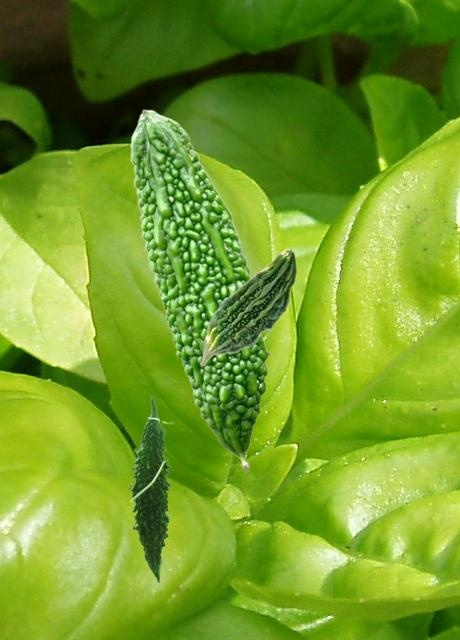ampalaya: (128, 106, 273, 472), (198, 246, 298, 367), (127, 396, 177, 583)
